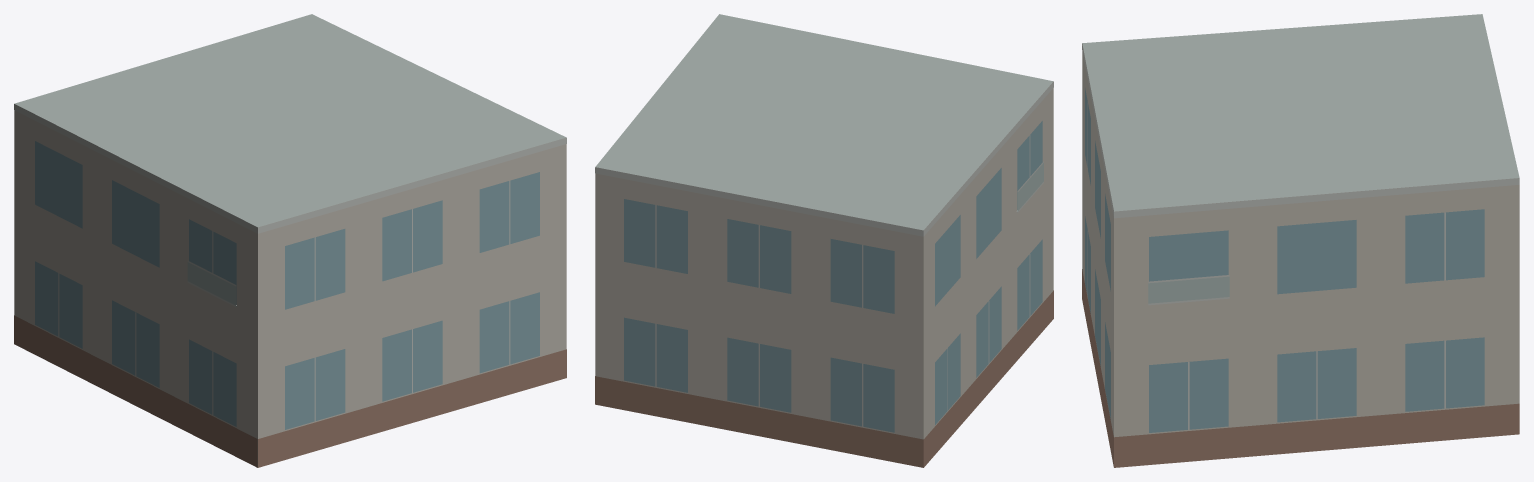
The model's file is survey-upis-32997203.glb.
The picture shows the model from 3 angles, left to right: view 1: azimuth 30°, elevation 25°; view 2: azimuth 150°, elevation 25°; view 3: azimuth 270°, elevation 25°; orthographic projection. The views are drawn at different scales.
Visible parts, largest first — view 1: survey-upis-32997203.tmp; view 2: survey-upis-32997203.tmp; view 3: survey-upis-32997203.tmp.
Boxes of the visible parts, bbox=[...] form: survey-upis-32997203.tmp: bbox=[14, 14, 566, 467]; survey-upis-32997203.tmp: bbox=[595, 14, 1053, 467]; survey-upis-32997203.tmp: bbox=[1082, 14, 1519, 467].
Bounding box in the file's own units: 15.17 × 9.17 × 14.19.
